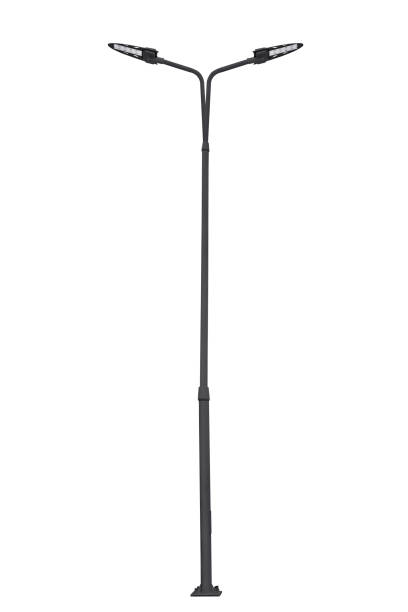light_pole: (198, 122, 212, 602)
